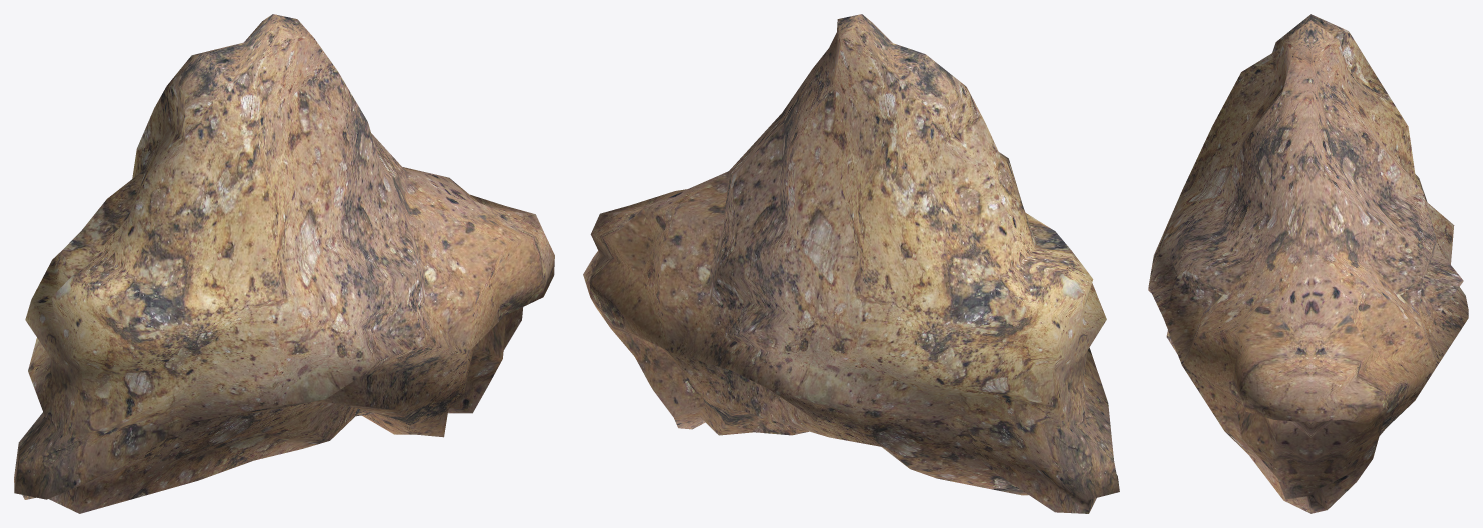
File: Tuff.fbx
The picture shows the model from 3 angles, left to right: view 1: azimuth 30°, elevation 25°; view 2: azimuth 150°, elevation 25°; view 3: azimuth 270°, elevation 25°; orthographic projection. The views are drawn at different scales.
Visible parts, largest first — view 1: Tuff; view 2: Tuff; view 3: Tuff.
Boxes of the visible parts, bbox=[...] form: Tuff: bbox=[14, 14, 554, 513]; Tuff: bbox=[583, 14, 1119, 513]; Tuff: bbox=[1148, 14, 1468, 513].
Bounding box in the file's own units: 492 × 408 × 283.
